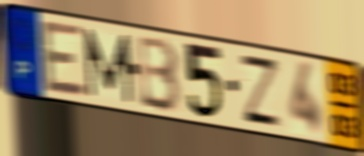4: (287, 59, 326, 140)
5: (182, 40, 226, 122)
B: (137, 34, 184, 116)
E: (39, 17, 90, 101)
M: (82, 25, 135, 106)
Z: (237, 51, 284, 131)
